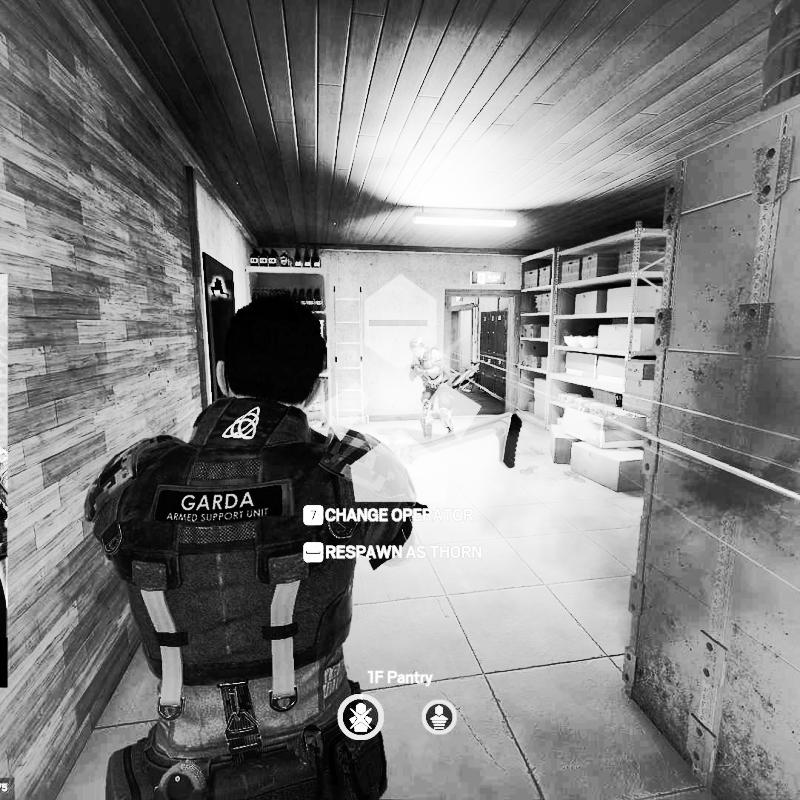Character: (73, 295, 436, 793), (406, 336, 457, 439)
Head: (218, 294, 327, 404), (409, 336, 426, 358)
